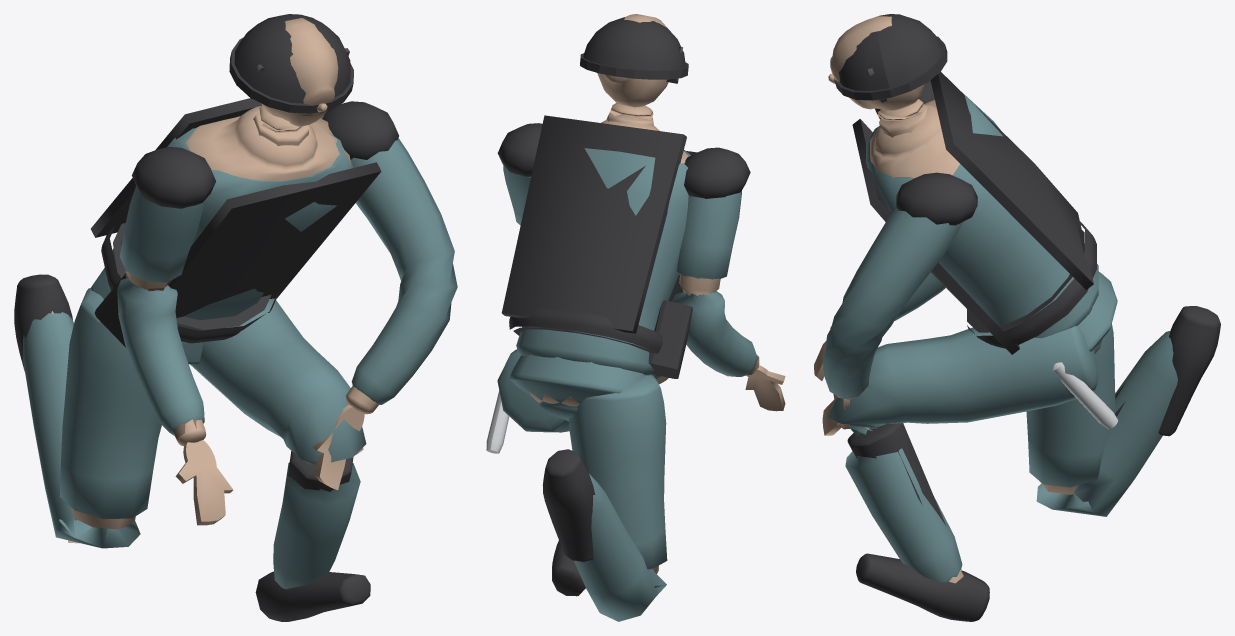
Rendered from tactical-shooter-hill-town-breacher-planting-882c9fcf__27578.glb.
3 renders of one model, left to right at view 1: azimuth 30°, elevation 25°; view 2: azimuth 150°, elevation 25°; view 3: azimuth 270°, elevation 25°, orthographic. The views are drawn at different scales.
Parts seen in each view (by area): view 1: breacher-planting; view 2: breacher-planting; view 3: breacher-planting.
Part boxes in pixels (left/top/right/bottom): breacher-planting: left=14, top=14, right=457, bottom=621; breacher-planting: left=486, top=14, right=785, bottom=621; breacher-planting: left=814, top=14, right=1220, bottom=621.
Size of the model in its own units: 0.6387 by 1.34 by 0.838.
